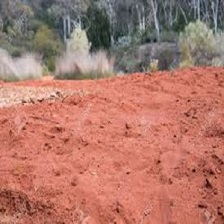sandy_soil: (12, 40, 211, 210)
